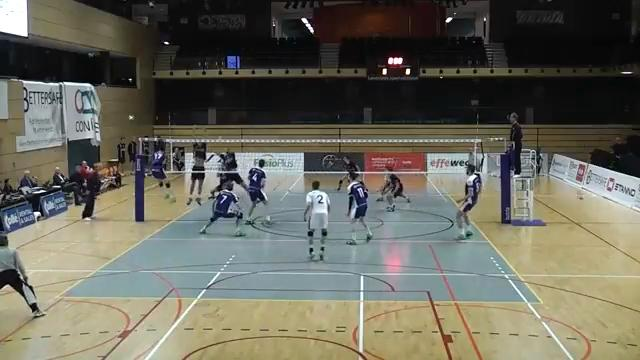attacco: (146, 141, 179, 205)
muro: (203, 128, 249, 194), (186, 122, 207, 210)
